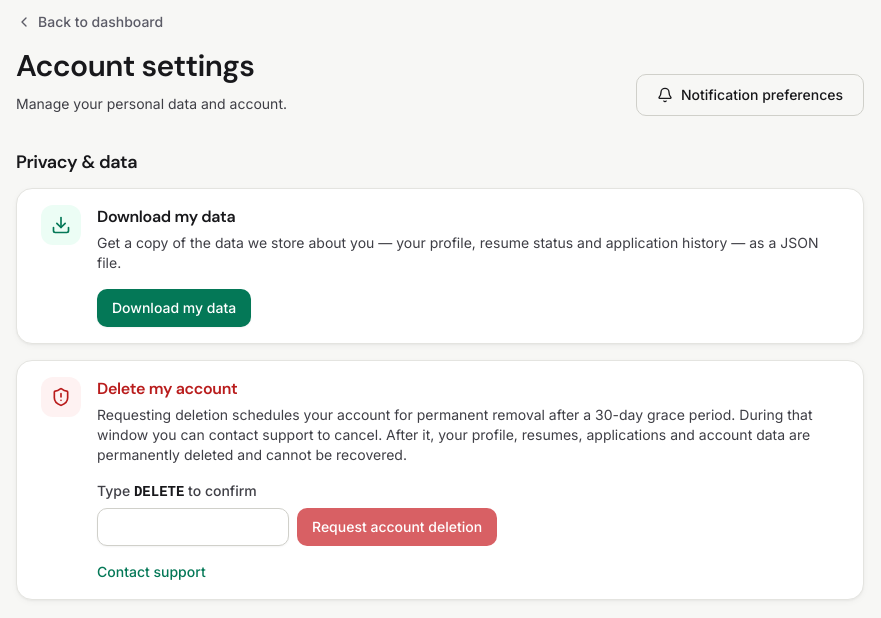
Test: CandidateSettingsPage › shows the already-scheduled message when the backend rejects a duplicate request
Type "DELETE" into the field labelled "Type DELETE to confirm" at [193, 527], box left=97, top=508, right=289, bottom=546
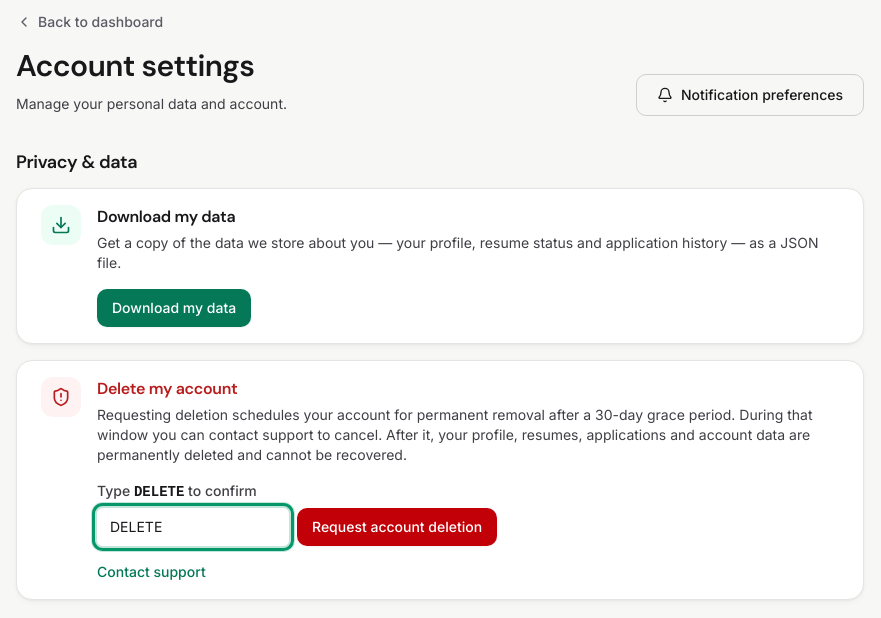
Click the button "Request account deletion" at [397, 527], box left=297, top=508, right=497, bottom=546
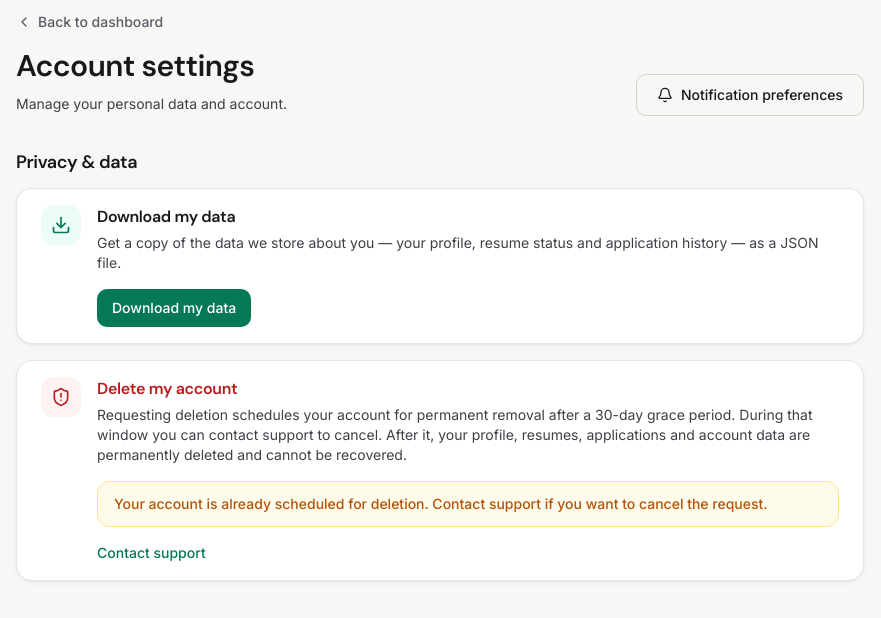
Expected: the text "already scheduled for deletion" is shown, left=114, top=495, right=768, bottom=512
